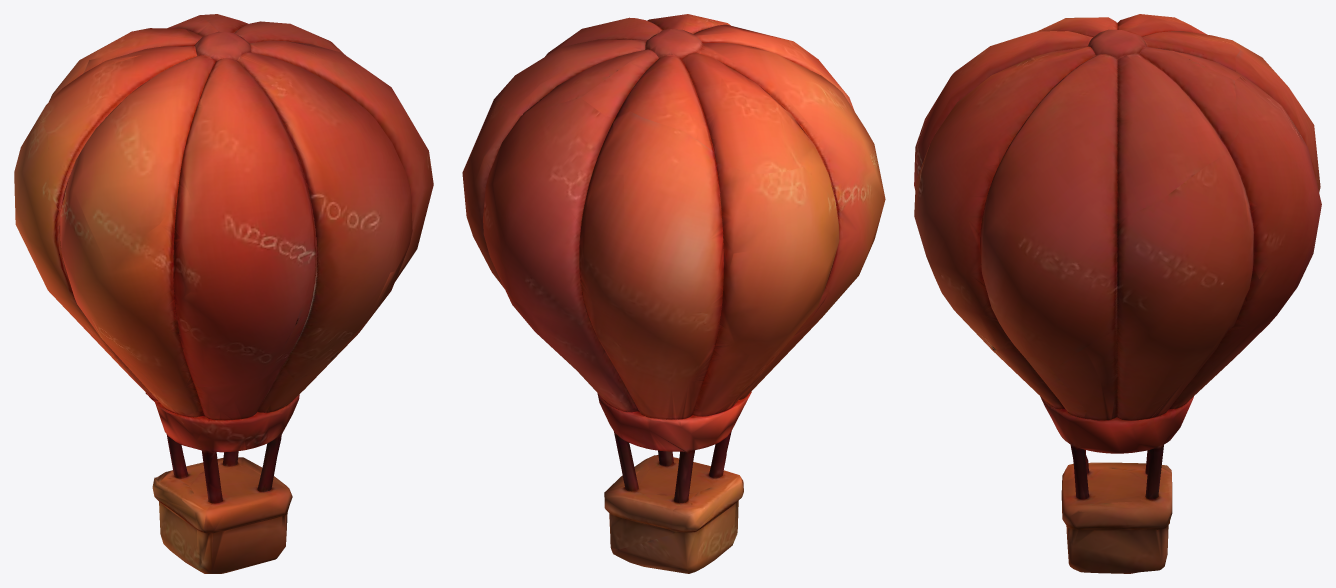
File: balloon_pbr.glb
3 views of the same model, side by side, from view 1: azimuth 30°, elevation 25°; view 2: azimuth 150°, elevation 25°; view 3: azimuth 270°, elevation 25° (orthographic).
Parts seen in each view (by area): view 1: model; view 2: model; view 3: model.
Boxes of the visible parts, <box> form: model: <box>14,14,433,573</box>; model: <box>462,14,885,573</box>; model: <box>914,14,1321,573</box>.
Bounding box in the file's own units: 1.19 × 1.72 × 1.2.
Materials: 1 (1 with a texture image).
